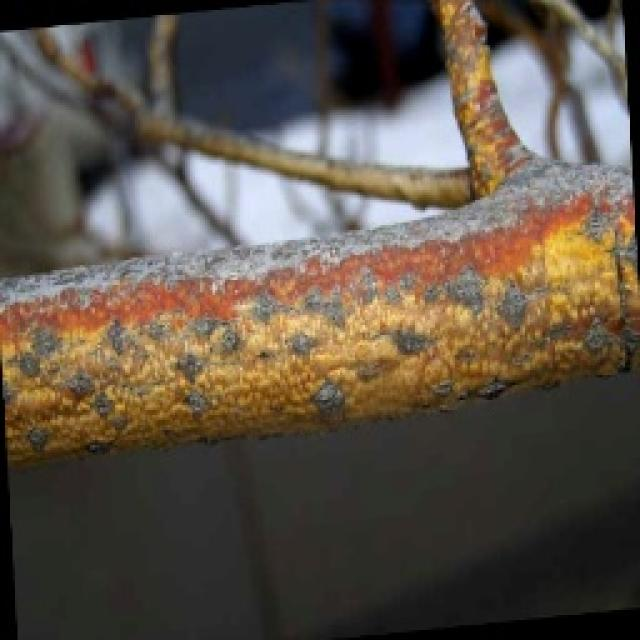Golden_canker: (7, 93, 623, 471)
